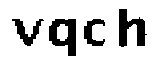c: (82, 17, 107, 48)
h: (115, 5, 150, 48)
q: (47, 17, 80, 59)
v: (9, 15, 45, 48)
